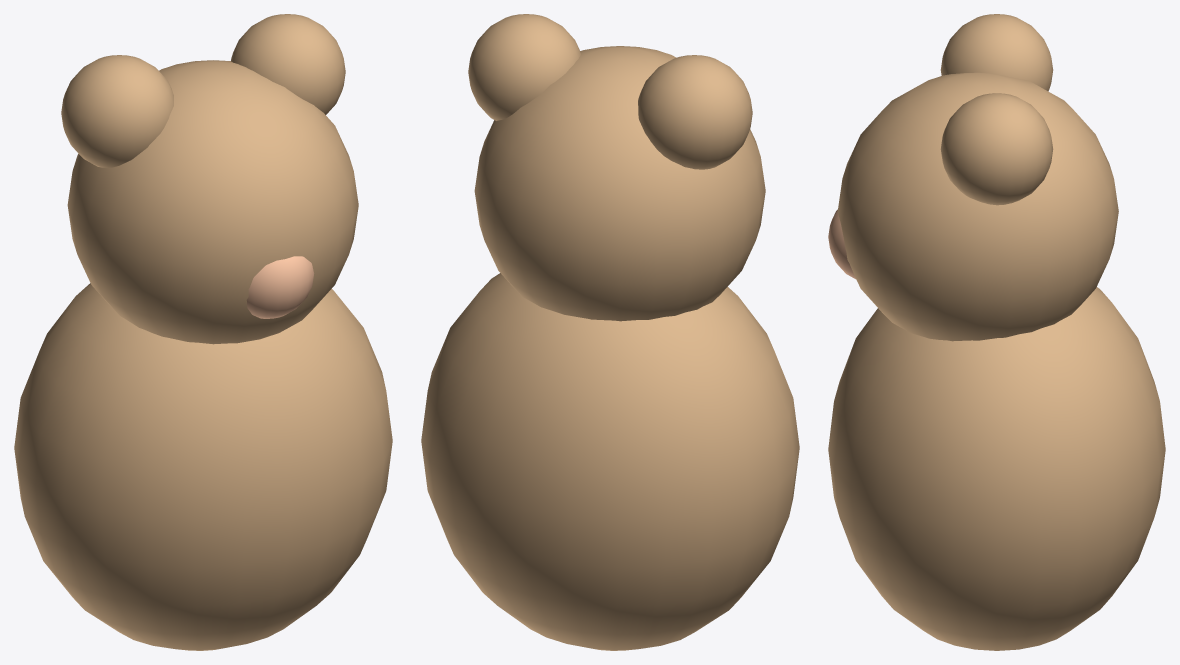
File: bear.glb
3 renders of one model, left to right at view 1: azimuth 30°, elevation 25°; view 2: azimuth 150°, elevation 25°; view 3: azimuth 270°, elevation 25°, orthographic. The views are drawn at different scales.
Parts seen in each view (by area): view 1: bear; view 2: bear; view 3: bear.
Boxes of the visible parts, bbox=[...] form: bear: bbox=[14, 14, 392, 650]; bear: bbox=[421, 14, 799, 650]; bear: bbox=[828, 14, 1165, 650].
Size of the model in its own units: 0.4 by 0.68 by 0.36.
